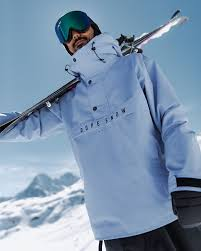skis: (1, 9, 188, 137)
